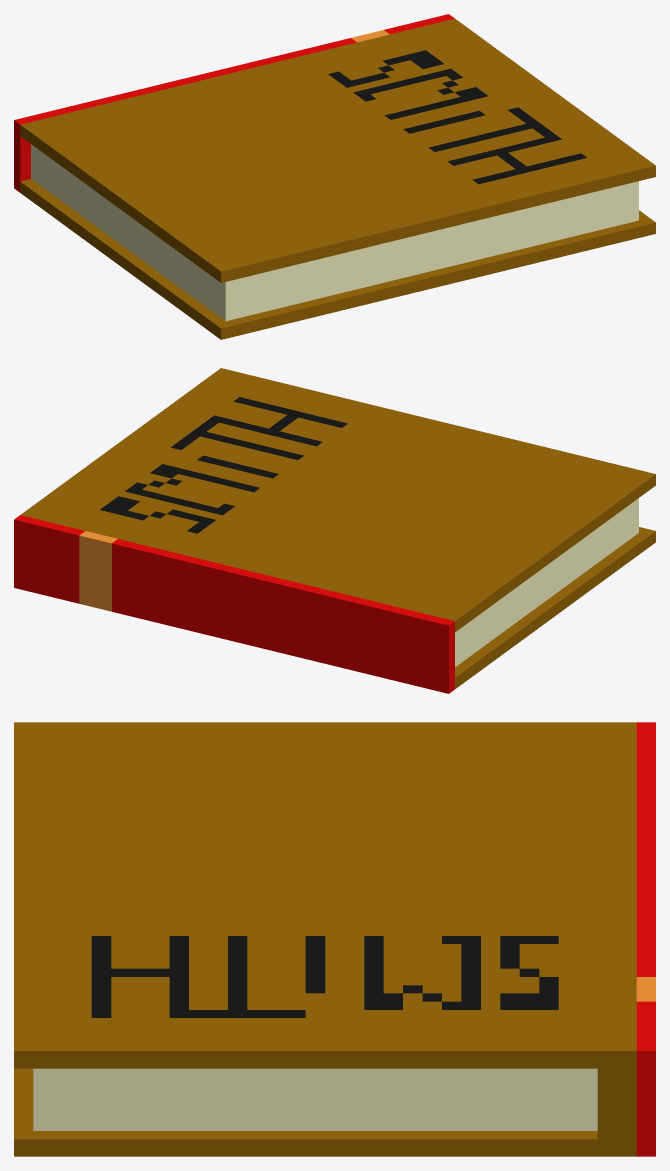
Rendered from school_book_scene.glb.
The picture shows the model from 3 angles, top to bottom: view 1: azimuth 30°, elevation 25°; view 2: azimuth 150°, elevation 25°; view 3: azimuth 270°, elevation 25°; orthographic projection. The views are drawn at different scales.
Parts seen in each view (by area): view 1: Untitled; view 2: Untitled; view 3: Untitled.
Boxes of the visible parts, x1,y1,x2,y2 form: Untitled: (14, 14, 655, 339); Untitled: (14, 368, 655, 693); Untitled: (14, 722, 655, 1156).
Bounding box in the file's own units: 4 × 0.6 × 3.3.
1 material, 1 textured.
